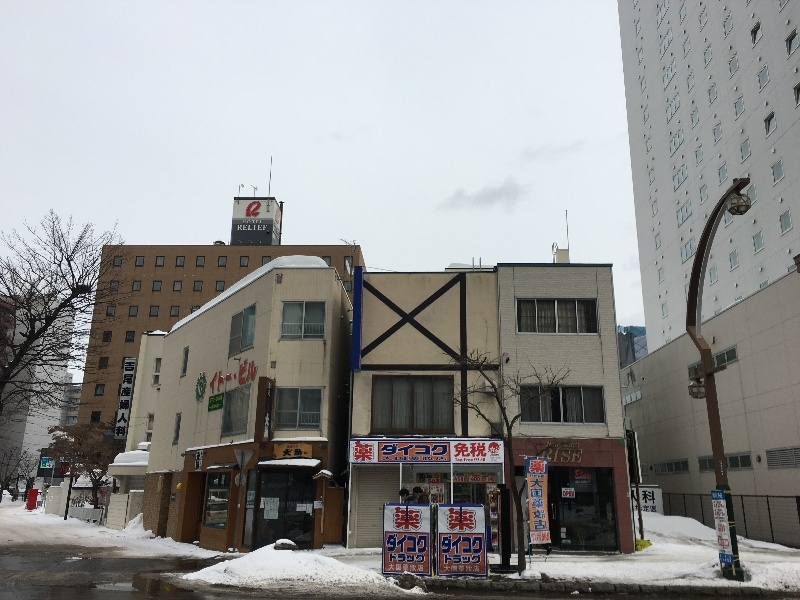text: (530, 479, 544, 531), (485, 485, 496, 546), (209, 356, 224, 394), (225, 356, 240, 394), (241, 356, 256, 394), (275, 201, 288, 243), (721, 517, 732, 562), (129, 361, 135, 436), (196, 373, 208, 405), (401, 509, 416, 530), (449, 510, 464, 530), (449, 535, 464, 555), (465, 535, 480, 555), (401, 534, 416, 554), (354, 444, 368, 463), (387, 534, 400, 554), (497, 485, 501, 546), (417, 534, 429, 554), (545, 448, 560, 464), (561, 448, 576, 464), (465, 443, 480, 458), (262, 498, 272, 520), (465, 510, 475, 530), (530, 460, 544, 474), (722, 462, 736, 476), (385, 444, 400, 457), (401, 444, 416, 457), (417, 444, 432, 457), (433, 444, 448, 457), (305, 502, 320, 515), (643, 490, 656, 505), (198, 452, 208, 471), (65, 452, 80, 464), (716, 517, 720, 562), (401, 553, 416, 564), (247, 200, 256, 218), (266, 413, 272, 439), (454, 443, 464, 458), (401, 564, 416, 574), (126, 361, 128, 436), (449, 555, 464, 565), (465, 555, 480, 565), (441, 535, 448, 555), (201, 451, 208, 470), (273, 498, 279, 520), (394, 509, 400, 530), (530, 533, 544, 542), (248, 492, 256, 507), (577, 470, 592, 478), (369, 444, 375, 463), (289, 449, 303, 457), (577, 480, 591, 488), (577, 448, 584, 464), (389, 564, 400, 574), (390, 553, 400, 564), (449, 566, 464, 573), (561, 441, 576, 448), (721, 501, 736, 508), (721, 509, 736, 516), (545, 479, 547, 531), (632, 490, 640, 503), (417, 553, 426, 564), (465, 566, 479, 573), (81, 452, 89, 464), (643, 506, 656, 513), (481, 443, 487, 458), (241, 225, 256, 231), (257, 200, 262, 218), (417, 509, 421, 530), (548, 441, 560, 448), (298, 502, 304, 515), (563, 491, 576, 497), (385, 456, 400, 461), (401, 456, 416, 461), (417, 456, 432, 461), (433, 456, 448, 461), (417, 564, 424, 574), (210, 398, 224, 403), (257, 225, 268, 231), (531, 474, 544, 479), (212, 404, 224, 409), (49, 459, 64, 463), (437, 488, 448, 493), (545, 533, 551, 542), (454, 477, 464, 482), (633, 505, 640, 512), (216, 395, 224, 401), (60, 452, 64, 464), (269, 382, 272, 398), (471, 477, 480, 482), (714, 501, 720, 508), (714, 509, 720, 516), (713, 493, 720, 499), (283, 449, 288, 457), (488, 477, 496, 482), (481, 535, 483, 555), (444, 555, 448, 565), (381, 444, 384, 457), (243, 221, 256, 224), (257, 356, 258, 394), (455, 458, 464, 462), (465, 458, 474, 462), (433, 479, 440, 484), (289, 445, 299, 448), (42, 463, 48, 468), (490, 457, 496, 462), (444, 566, 448, 573), (321, 502, 323, 515), (497, 457, 502, 462), (490, 454, 496, 458), (565, 489, 576, 491), (61, 467, 64, 474), (65, 467, 68, 474), (577, 441, 580, 448), (447, 510, 448, 530), (428, 479, 432, 484), (237, 225, 240, 231), (257, 221, 263, 224), (717, 502, 720, 508), (543, 448, 544, 464), (718, 510, 720, 516), (721, 493, 723, 499), (382, 456, 384, 461), (43, 460, 48, 462), (481, 555, 482, 565), (497, 454, 499, 458), (575, 470, 576, 478), (575, 480, 576, 488), (641, 505, 642, 512), (721, 510, 722, 516)
